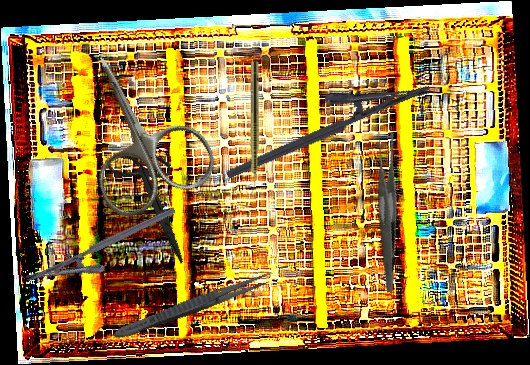Dressing Forceps: (334, 129, 437, 293), (110, 266, 277, 345)
Handpiece: (249, 61, 259, 197)
Iris Scissors: (48, 30, 224, 226), (83, 134, 224, 266)
Needle Holder: (213, 55, 433, 181), (25, 206, 186, 303)
